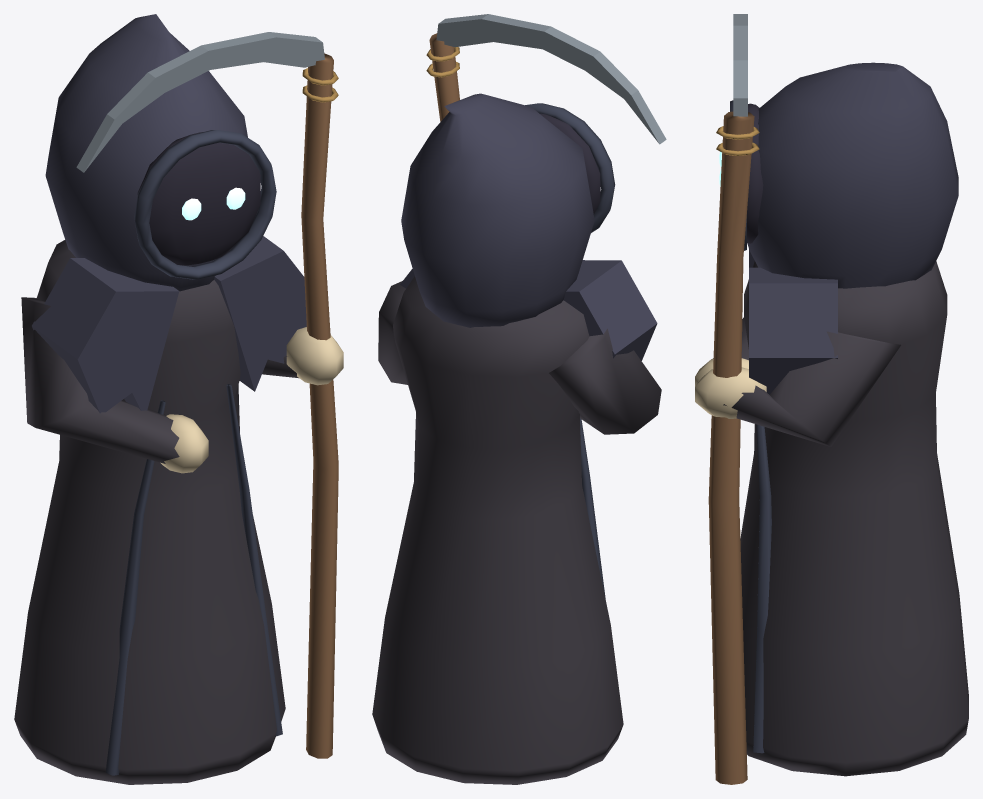
Rendered from vendor_reaper.glb.
3 renders of one model, left to right at view 1: azimuth 30°, elevation 25°; view 2: azimuth 150°, elevation 25°; view 3: azimuth 270°, elevation 25°, orthographic. The views are drawn at different scales.
Visible parts, largest first — view 1: vendor_reaper; view 2: vendor_reaper; view 3: vendor_reaper.
Part boxes in pixels (x1,y1,x2,y2): vendor_reaper: (14,14,343,784); vendor_reaper: (372,14,666,784); vendor_reaper: (695,14,968,784).
Size of the model in its own units: 0.7 by 1.7 by 0.6.
